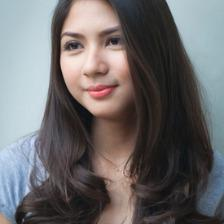Non hijab: (18, 0, 214, 224)
